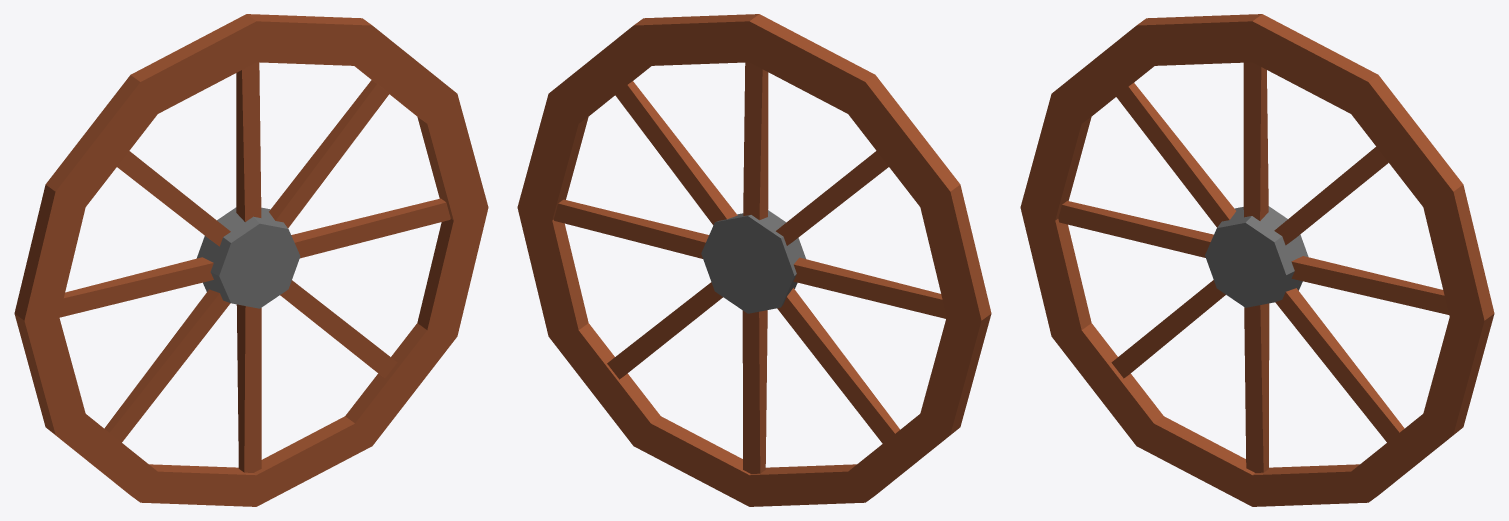
The model's file is Asian_Prop_Vehicle_Cart_Wheel_01.FBX.
The picture shows the model from 3 angles, left to right: view 1: azimuth 30°, elevation 25°; view 2: azimuth 150°, elevation 25°; view 3: azimuth 330°, elevation 25°; orthographic projection.
Visible parts, largest first — view 1: Asian_Prop_Vehicle_Cart_Wheel_01; view 2: Asian_Prop_Vehicle_Cart_Wheel_01; view 3: Asian_Prop_Vehicle_Cart_Wheel_01.
Boxes of the visible parts, x1,y1,x2,y2 form: Asian_Prop_Vehicle_Cart_Wheel_01: (14, 14, 488, 506); Asian_Prop_Vehicle_Cart_Wheel_01: (517, 14, 991, 506); Asian_Prop_Vehicle_Cart_Wheel_01: (1020, 14, 1494, 506).
Size of the model in its own units: 1733 by 1733 by 120.
